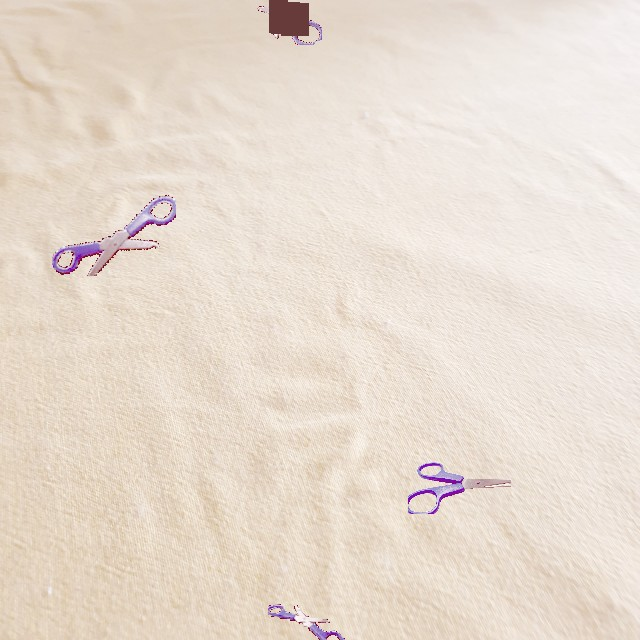scissors: (52, 195, 176, 276), (408, 462, 511, 514), (257, 0, 322, 45), (268, 604, 345, 640)
